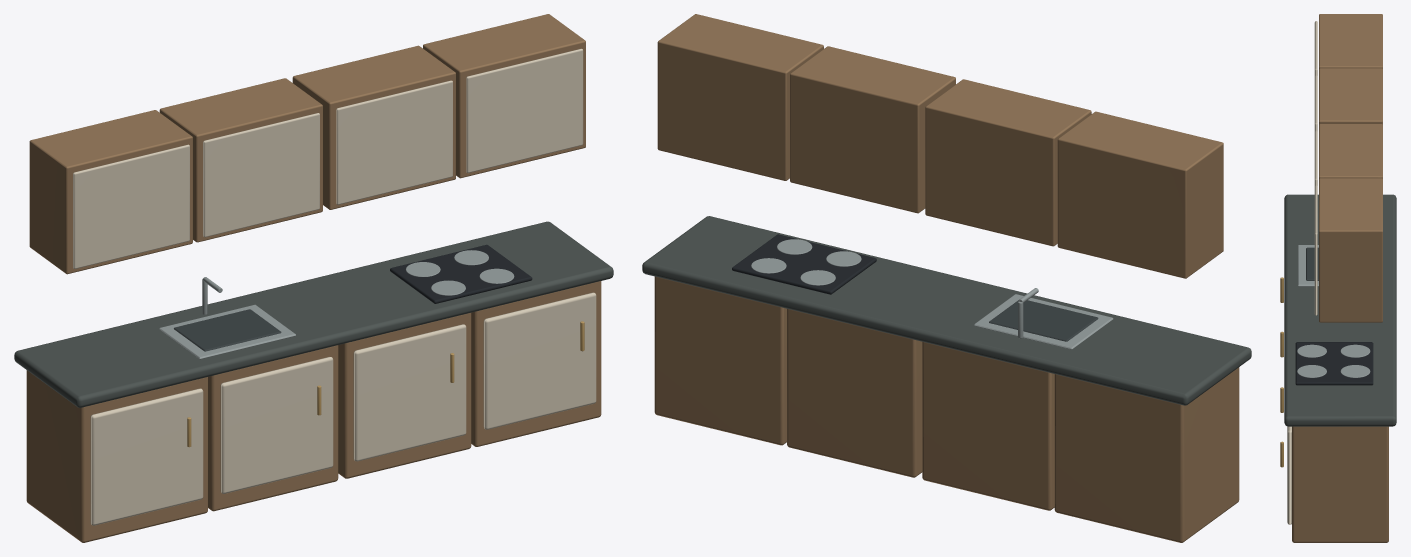
The model's file is P_KitchenRun.fbx.
3 views of the same model, side by side, from view 1: azimuth 30°, elevation 25°; view 2: azimuth 150°, elevation 25°; view 3: azimuth 270°, elevation 25° (orthographic). The views are drawn at different scales.
Parts seen in each view (by area): view 1: P_KitchenRun; view 2: P_KitchenRun; view 3: P_KitchenRun.
Part boxes in pixels (<box>): P_KitchenRun: <box>14,14,613,542</box>; P_KitchenRun: <box>642,14,1251,542</box>; P_KitchenRun: <box>1280,14,1396,542</box>.
Bounding box in the file's own units: 3.55 × 2.31 × 0.777.
